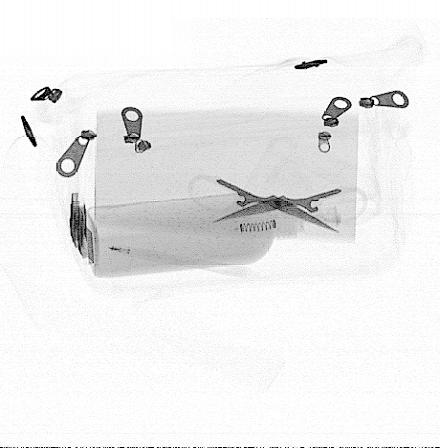Scissors: (186, 172, 369, 232)
